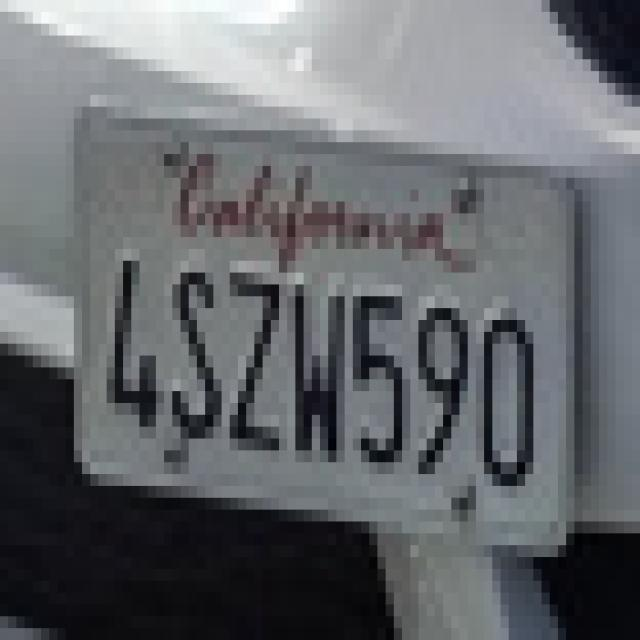0: (477, 297, 542, 496)
4: (101, 242, 162, 434)
5: (350, 268, 410, 480)
9: (411, 275, 476, 493)
S: (166, 255, 224, 454)
W: (286, 270, 350, 480)
Z: (225, 251, 282, 456)
